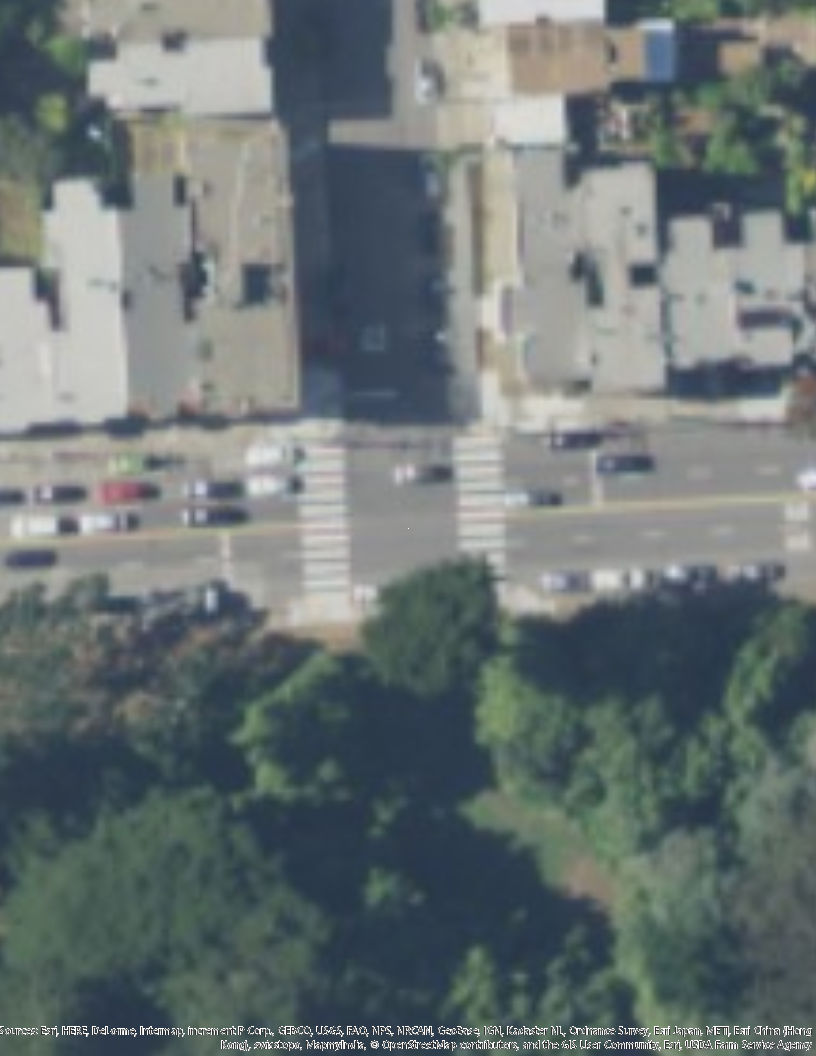zebracross: (296, 446, 352, 604), (452, 436, 501, 576)
